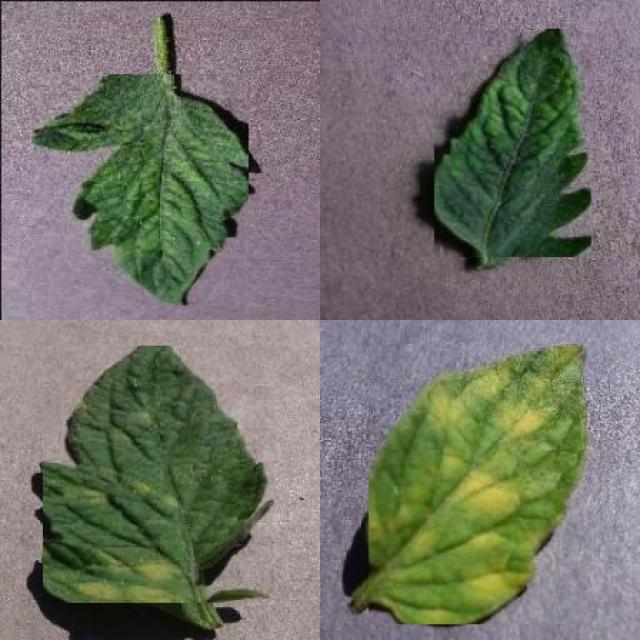Leaf Mold: (369, 344, 587, 624), (42, 346, 274, 604)
Mosaic Virus: (32, 75, 248, 305), (435, 28, 592, 258)
